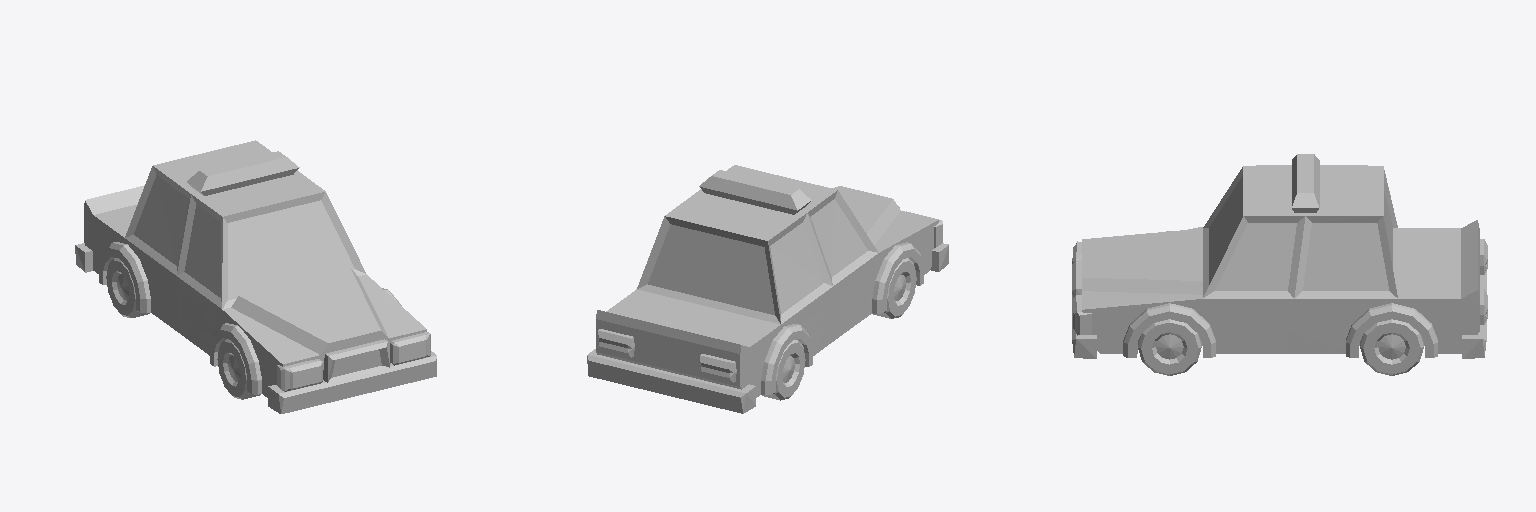
Rendered from car_police_full.obj.
3 renders of one model, left to right at view 1: azimuth 30°, elevation 25°; view 2: azimuth 150°, elevation 25°; view 3: azimuth 270°, elevation 25°, orthographic.
Parts seen in each view (by area): view 1: car_police_Cube.1022, car_police_wheel_rear_right_Cylinder.282, car_police_wheel_front_right_Cylinder.281; view 2: car_police_Cube.1022, car_police_wheel_front_right_Cylinder.281, car_police_wheel_rear_right_Cylinder.282; view 3: car_police_Cube.1022, car_police_wheel_front_left_Cylinder.279, car_police_wheel_rear_left_Cylinder.280.
Boxes of the visible parts, <box> form: car_police_Cube.1022: <box>75,140,436,413</box>; car_police_wheel_rear_right_Cylinder.282: <box>106,257,149,317</box>; car_police_wheel_front_right_Cylinder.281: <box>217,339,260,399</box>; car_police_Cube.1022: <box>587,165,948,413</box>; car_police_wheel_front_right_Cylinder.281: <box>872,258,916,318</box>; car_police_wheel_rear_right_Cylinder.282: <box>762,340,805,400</box>; car_police_Cube.1022: <box>1072,154,1487,358</box>; car_police_wheel_front_left_Cylinder.279: <box>1138,319,1201,375</box>; car_police_wheel_rear_left_Cylinder.280: <box>1360,319,1423,375</box>.
Bounding box in the file's own units: 0.419 × 0.4126 × 0.9381.